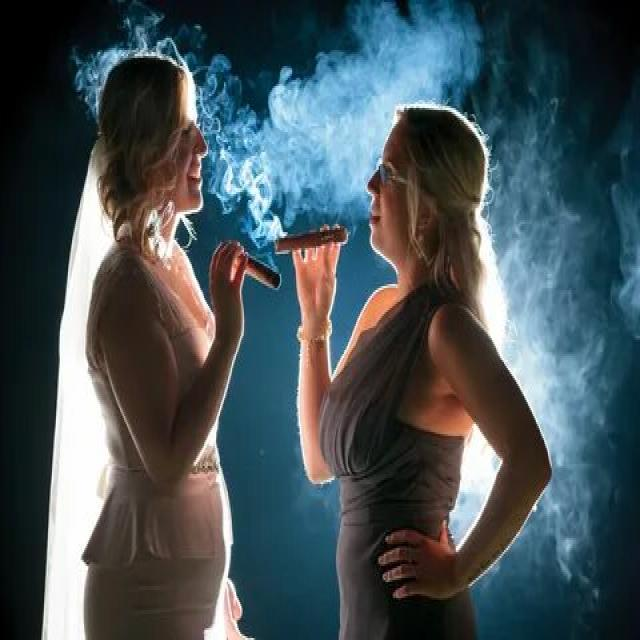smoke: (221, 244, 284, 302), (273, 222, 355, 256)
